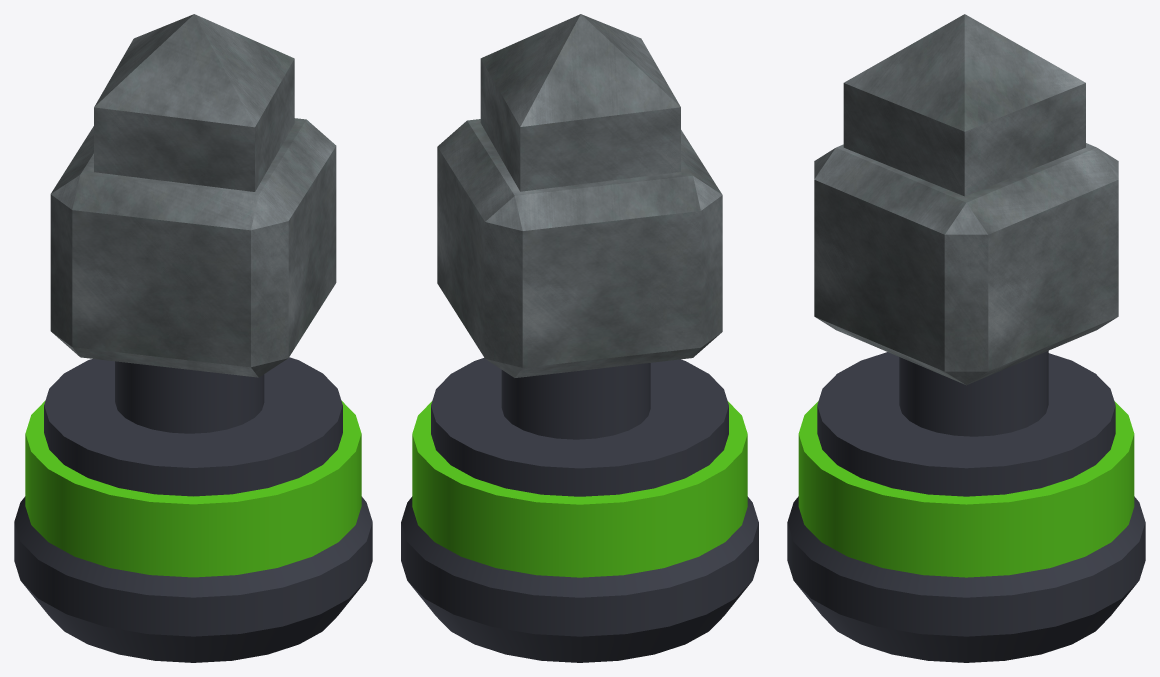
File: tower_gold.obj
The picture shows the model from 3 angles, left to right: view 1: azimuth 30°, elevation 25°; view 2: azimuth 150°, elevation 25°; view 3: azimuth 270°, elevation 25°; orthographic projection.
Visible parts, largest first — view 1: mergedBlocks; view 2: mergedBlocks; view 3: mergedBlocks.
Part boxes in pixels (x1,y1,x2,y2): mergedBlocks: (14, 14, 372, 662); mergedBlocks: (401, 14, 758, 662); mergedBlocks: (787, 14, 1145, 662).
Bounding box in the file's own units: 0.96 × 1.73 × 0.96.
Materials: 4 (1 with a texture image).
